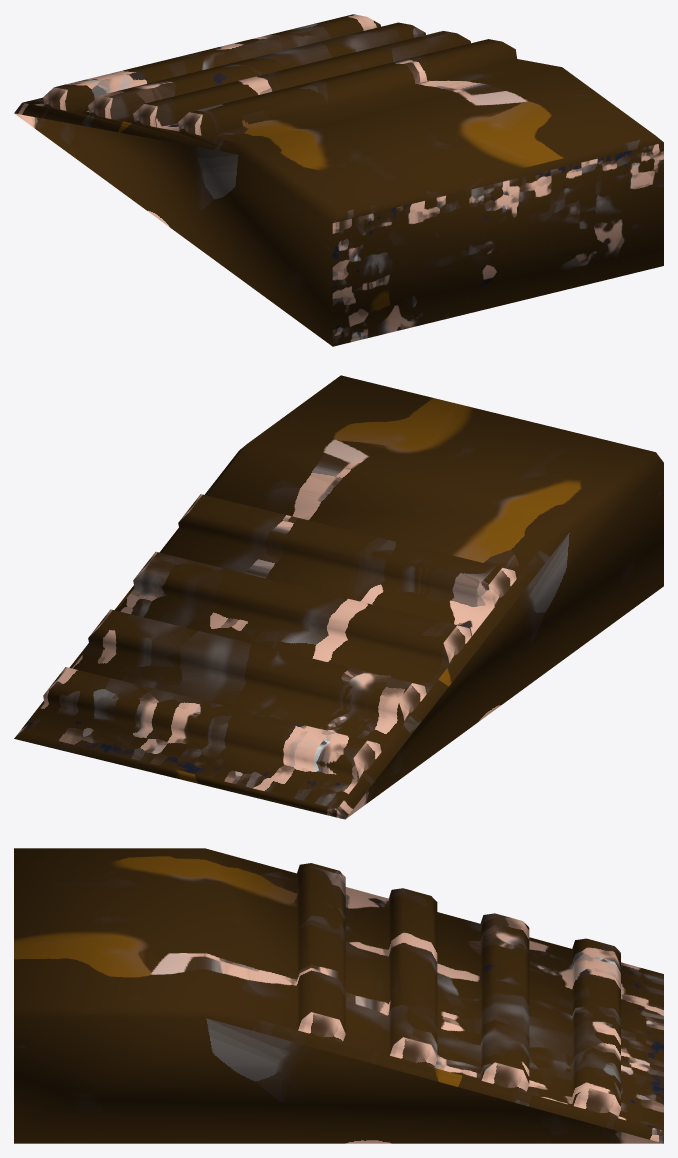
The model's file is NewBridgeRamp.fbx.
3 renders of one model, top to bottom at view 1: azimuth 30°, elevation 25°; view 2: azimuth 150°, elevation 25°; view 3: azimuth 270°, elevation 25°, orthographic.
Parts seen in each view (by area): view 1: Ramp; view 2: Ramp; view 3: Ramp.
Part boxes in pixels (x1,y1,x2,y2): Ramp: (14, 14, 663, 346); Ramp: (14, 375, 663, 819); Ramp: (14, 848, 663, 1143).
Bounding box in the file's own units: 452 × 172 × 754.
